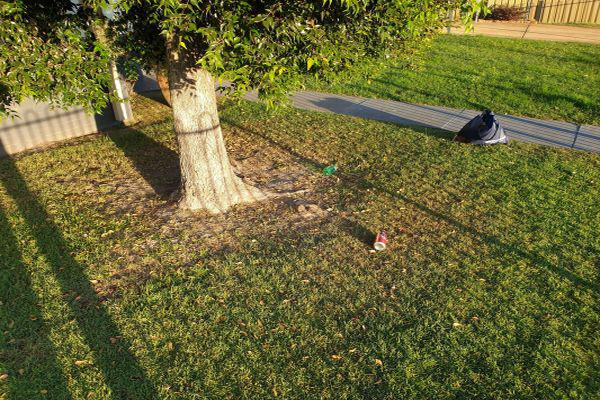Plastic Bottle: (373, 229, 388, 251), (322, 164, 337, 177)
